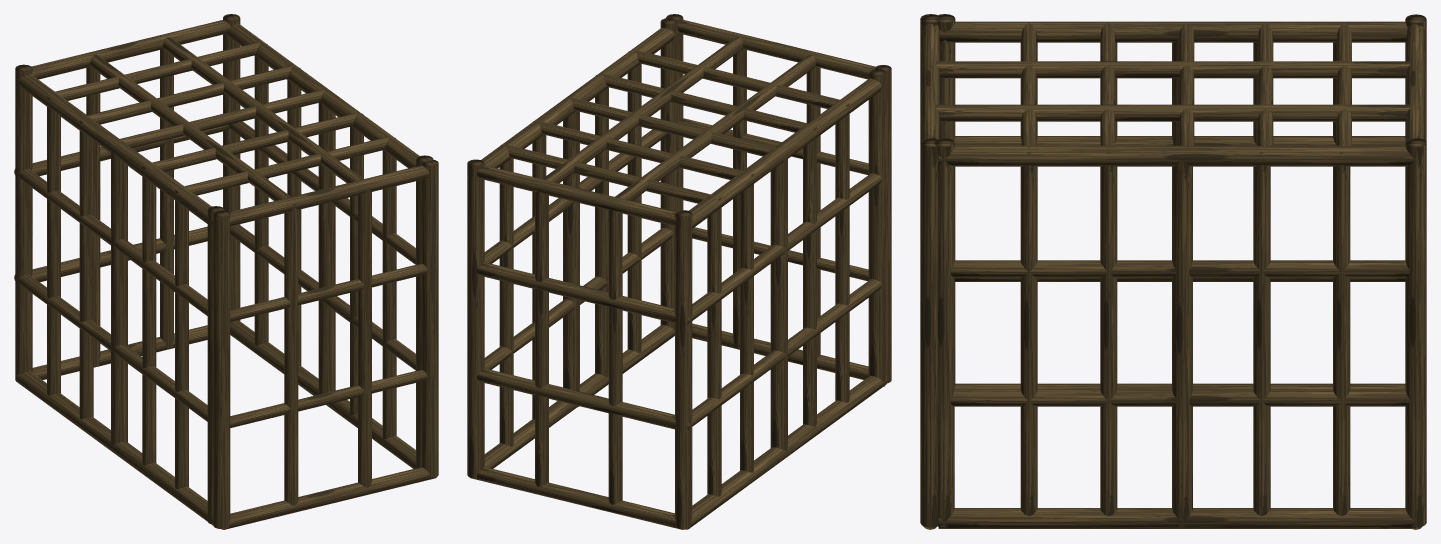
Rendered from cage (1).fbx.
3 views of the same model, side by side, from view 1: azimuth 30°, elevation 25°; view 2: azimuth 150°, elevation 25°; view 3: azimuth 270°, elevation 25° (orthographic). The views are drawn at different scales.
Parts seen in each view (by area): view 1: polySurface43; view 2: polySurface43; view 3: polySurface43.
Boxes of the visible parts, x1,y1,x2,y2 form: polySurface43: [14, 14, 438, 529]; polySurface43: [467, 14, 891, 529]; polySurface43: [920, 14, 1426, 529].
Bounding box in the file's own units: 4.4 × 5.95 × 7.08.
Materials: 1 (1 with a texture image).
